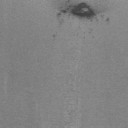iron sheet ash: (70, 2, 97, 18), (56, 10, 66, 16)
